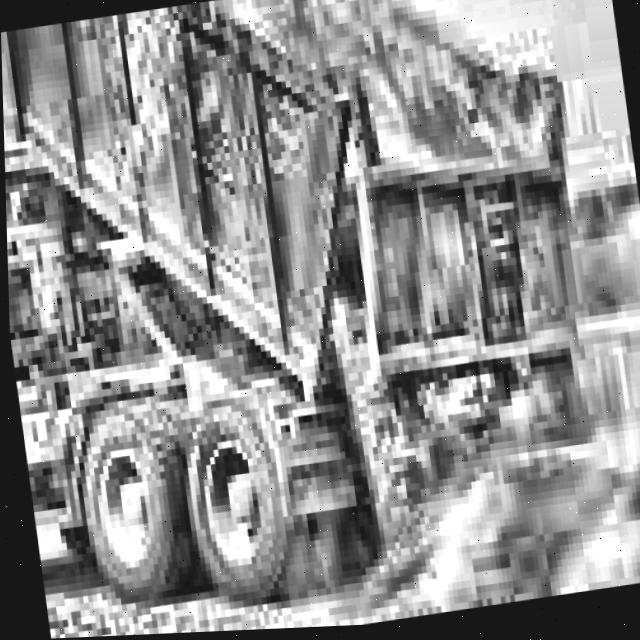dump_truck: (0, 0, 621, 630)
